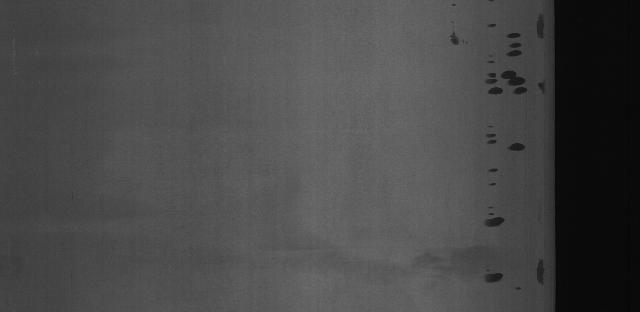oil_spot: (445, 12, 550, 108), (481, 132, 533, 166), (472, 197, 511, 239), (524, 246, 549, 288), (485, 262, 511, 292)
